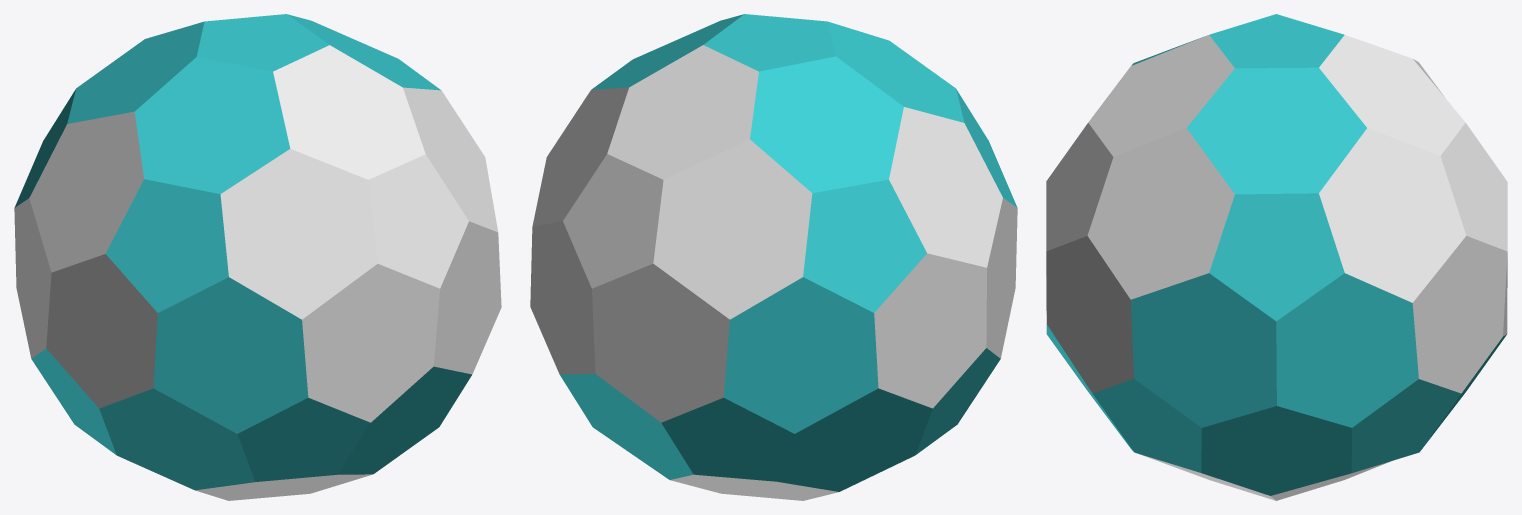
Rendered from Handball.fbx.
3 views of the same model, side by side, from view 1: azimuth 30°, elevation 25°; view 2: azimuth 150°, elevation 25°; view 3: azimuth 270°, elevation 25° (orthographic).
Parts seen in each view (by area): view 1: Handball; view 2: Handball; view 3: Handball.
Part boxes in pixels (x1=…): Handball: x1=14, y1=14, x2=501, y2=500; Handball: x1=530, y1=14, x2=1017, y2=500; Handball: x1=1046, y1=14, x2=1507, y2=500.
Size of the model in its own units: 121 by 118 by 115.
